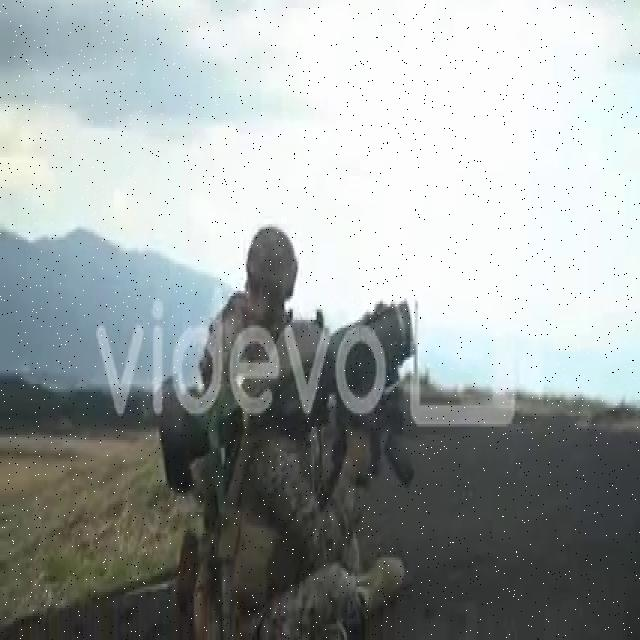bazooka: (155, 291, 420, 508)
